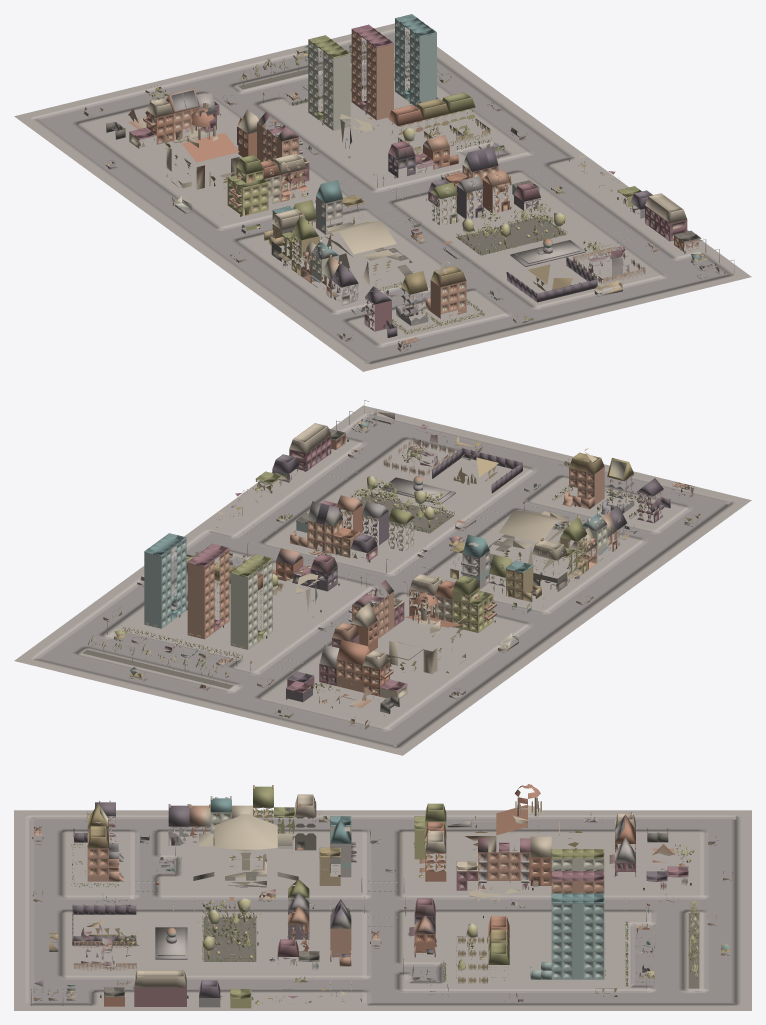
The model's file is lowpoly_city_opt.glb.
3 views of the same model, one above another, from view 1: azimuth 30°, elevation 25°; view 2: azimuth 150°, elevation 25°; view 3: azimuth 270°, elevation 25° (orthographic). The views are drawn at different scales.
Parts seen in each view (by area): view 1: cell_1_0, cell_0_0, cell_0_1, cell_0_-1, cell_1_1, cell_0_2, cell_1_-1, cell_1_2, cell_2_-1, cell_2_2, cell_2_1, cell_1_-2 (+4 smaller); view 2: cell_1_0, cell_0_0, cell_0_-1, cell_1_-1, cell_0_1, cell_1_1, cell_1_2, cell_0_2, cell_2_-1, cell_2_1, cell_2_2, cell_1_-2 (+4 smaller); view 3: cell_1_0, cell_0_1, cell_0_0, cell_0_-1, cell_1_1, cell_2_-1, cell_0_2, cell_1_2, cell_1_-1, cell_2_2, cell_2_1, cell_1_-2 (+4 smaller).
Part boxes in pixels (x1=…): cell_1_0: x1=197, y1=77, x2=547, y2=322; cell_0_0: x1=33, y1=108, x2=387, y2=362; cell_0_1: x1=228, y1=180, x2=439, y2=312; cell_0_-1: x1=69, y1=88, x2=323, y2=228; cell_1_1: x1=347, y1=146, x2=567, y2=307; cell_0_2: x1=321, y1=254, x2=525, y2=356; cell_1_-1: x1=198, y1=24, x2=409, y2=196; cell_1_2: x1=456, y1=224, x2=680, y2=318; cell_2_-1: x1=340, y1=14, x2=586, y2=161; cell_2_2: x1=522, y1=164, x2=751, y2=284; cell_2_1: x1=493, y1=155, x2=711, y2=275; cell_1_-2: x1=23, y1=23, x2=394, y2=119; cell_1_0: x1=117, y1=461, x2=568, y2=706; cell_0_0: x1=351, y1=499, x2=732, y2=746; cell_0_-1: x1=259, y1=595, x2=532, y2=732; cell_1_-1: x1=77, y1=543, x2=402, y2=701; cell_0_1: x1=429, y1=510, x2=646, y2=616; cell_1_1: x1=263, y1=470, x2=536, y2=582; cell_1_2: x1=343, y1=428, x2=571, y2=521; cell_0_2: x1=515, y1=448, x2=706, y2=551; cell_2_-1: x1=14, y1=526, x2=227, y2=662; cell_2_1: x1=199, y1=439, x2=406, y2=547; cell_2_2: x1=237, y1=405, x2=447, y2=544; cell_1_-2: x1=23, y1=655, x2=398, y2=753; cell_1_0: x1=35, y1=848, x2=730, y2=993; cell_0_1: x1=161, y1=785, x2=380, y2=895; cell_0_0: x1=35, y1=784, x2=730, y2=899; cell_0_-1: x1=404, y1=812, x2=718, y2=895; cell_1_1: x1=66, y1=878, x2=381, y2=975; cell_2_-1: x1=362, y1=893, x2=751, y2=1010; cell_0_2: x1=35, y1=801, x2=210, y2=899; cell_1_2: x1=35, y1=881, x2=210, y2=979; cell_1_-1: x1=404, y1=849, x2=716, y2=993; cell_2_2: x1=14, y1=923, x2=372, y2=1010; cell_2_1: x1=66, y1=939, x2=372, y2=1010; cell_1_-2: x1=709, y1=815, x2=751, y2=1006.
Size of the model in its own units: 225 by 40.72 by 350.
